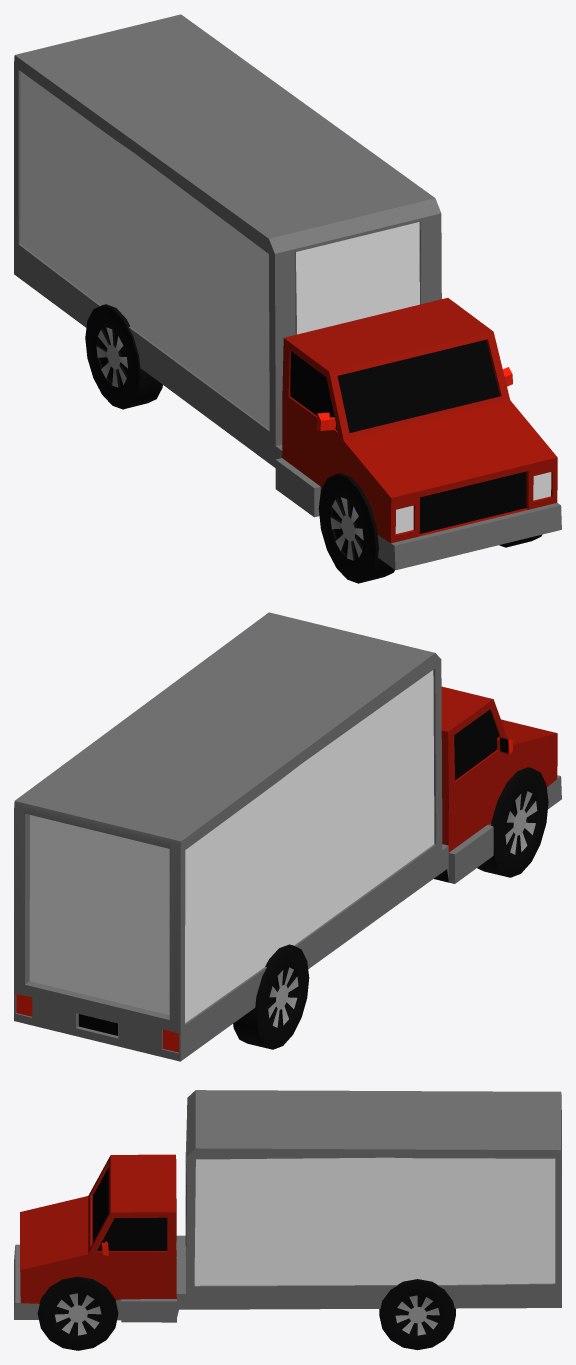
File: truckred.fbx
3 renders of one model, top to bottom at view 1: azimuth 30°, elevation 25°; view 2: azimuth 150°, elevation 25°; view 3: azimuth 270°, elevation 25°, orthographic. The views are drawn at different scales.
Parts seen in each view (by area): view 1: Cube.001, Cube.002, Cube.005; view 2: Cube.001, Cube.002, Cube.005; view 3: Cube.001, Cube.003, Cube.004.
Boxes of the visible parts, left/top/right/bottom form: Cube.001: left=14, top=14, right=561, bottom=570; Cube.002: left=318, top=473, right=394, bottom=583; Cube.005: left=85, top=304, right=162, bottom=409; Cube.001: left=14, top=612, right=561, bottom=1061; Cube.002: left=477, top=767, right=548, bottom=877; Cube.005: left=233, top=944, right=309, bottom=1049; Cube.001: left=14, top=1090, right=561, bottom=1322; Cube.003: left=37, top=1276, right=118, bottom=1350; Cube.004: left=379, top=1279, right=455, bottom=1350.
Bounding box in the file's own units: 131 × 182 × 448.
1 material, 1 textured.
